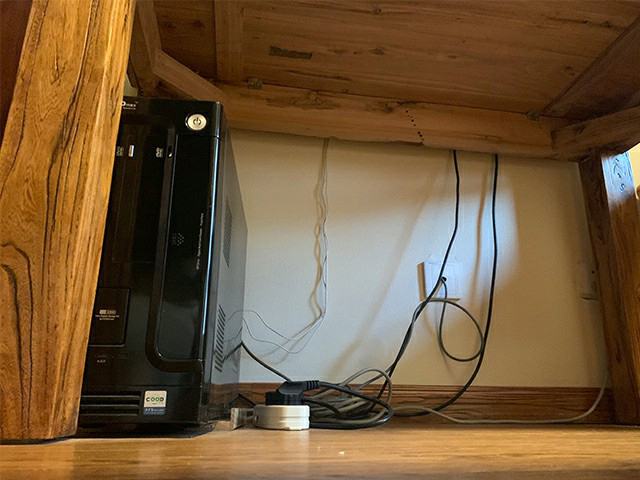wire: (238, 137, 605, 432)
